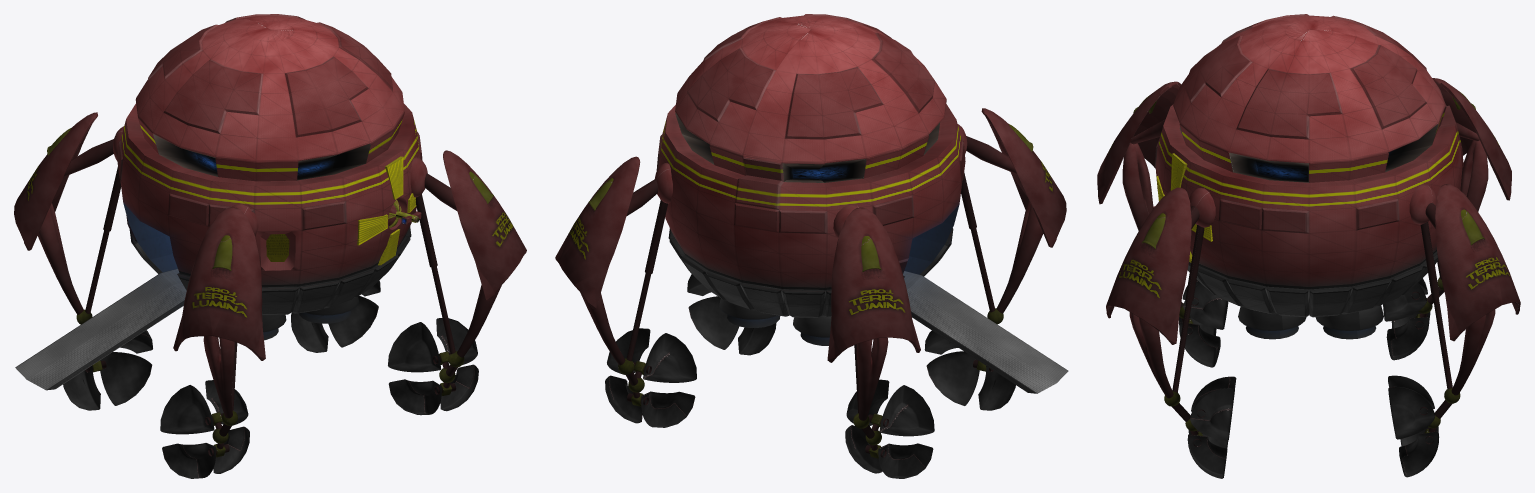
The model's file is SpaceShipAnim.fbx.
3 renders of one model, left to right at view 1: azimuth 30°, elevation 25°; view 2: azimuth 150°, elevation 25°; view 3: azimuth 270°, elevation 25°, orthographic.
Visible parts, largest first — view 1: MainBody, Leg1, Leg2, Leg4, Leg3, HiddenPanel; view 2: MainBody, Leg4, Leg3, Leg1, Leg2; view 3: MainBody, Leg3, Leg2, Leg1, Leg4.
Part boxes in pixels (x1=…): MainBody: x1=15, y1=14, x2=422, y2=390; Leg1: x1=160, y1=204, x2=265, y2=478; Leg2: x1=388, y1=150, x2=526, y2=415; Leg4: x1=14, y1=112, x2=152, y2=410; Leg3: x1=291, y1=280, x2=380, y2=352; HiddenPanel: x1=266, y1=234, x2=289, y2=261; MainBody: x1=656, y1=14, x2=1068, y2=393; Leg4: x1=827, y1=205, x2=934, y2=478; Leg3: x1=555, y1=156, x2=696, y2=427; Leg1: x1=924, y1=108, x2=1066, y2=410; Leg2: x1=687, y1=274, x2=776, y2=355; MainBody: x1=1154, y1=14, x2=1463, y2=339; Leg3: x1=1388, y1=184, x2=1520, y2=477; Leg2: x1=1106, y1=187, x2=1236, y2=478; Leg1: x1=1097, y1=81, x2=1228, y2=367; Leg4: x1=1383, y1=78, x2=1511, y2=360.
Bounding box in the file's own units: 11.91 × 10.38 × 10.32.
3 materials, 3 textured.
